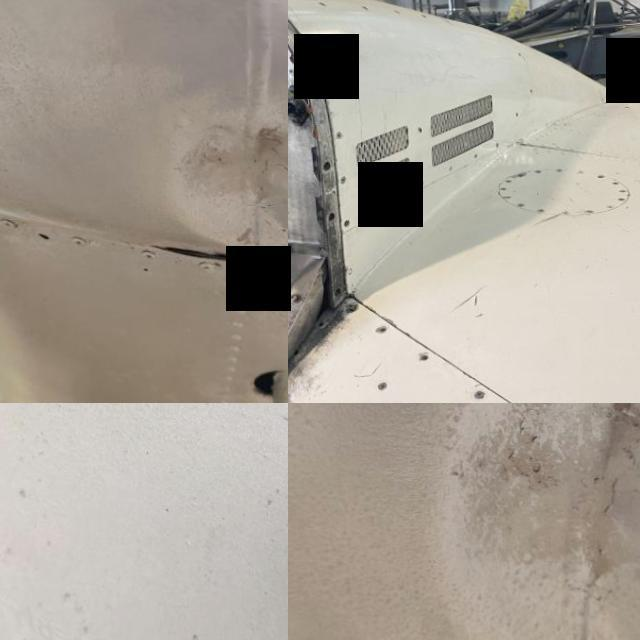Dent: (370, 403, 640, 640), (136, 91, 288, 274)
Missing_Fastener: (408, 352, 424, 363), (367, 323, 382, 334), (321, 82, 330, 94), (410, 126, 420, 134), (591, 173, 601, 179), (526, 88, 528, 93), (512, 112, 514, 116)
